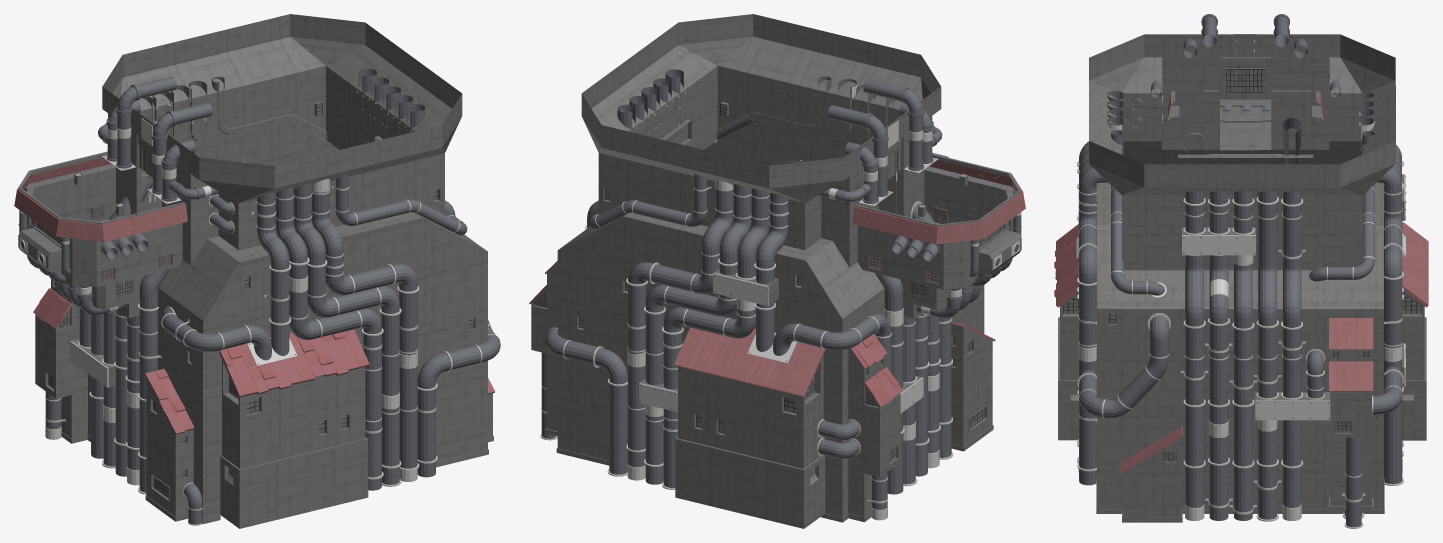
The model's file is MainTower_Ba.fbx.
The picture shows the model from 3 angles, left to right: view 1: azimuth 30°, elevation 25°; view 2: azimuth 150°, elevation 25°; view 3: azimuth 270°, elevation 25°; orthographic projection.
Visible parts, largest first — view 1: SM_ENV_AMVLLG02_AreaB_MainTower_Ba.mo; view 2: SM_ENV_AMVLLG02_AreaB_MainTower_Ba.mo; view 3: SM_ENV_AMVLLG02_AreaB_MainTower_Ba.mo.
Part boxes in pixels (bbox=[...]): SM_ENV_AMVLLG02_AreaB_MainTower_Ba.mo: bbox=[14, 14, 500, 528]; SM_ENV_AMVLLG02_AreaB_MainTower_Ba.mo: bbox=[529, 14, 1025, 528]; SM_ENV_AMVLLG02_AreaB_MainTower_Ba.mo: bbox=[1054, 14, 1428, 528].
Bounding box in the file's own units: 5824 × 4895 × 4488.
